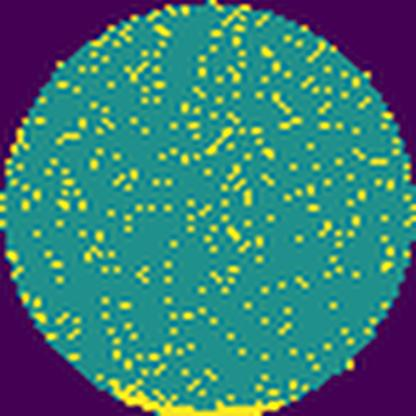Edge-Loc: (104, 375, 286, 416)
